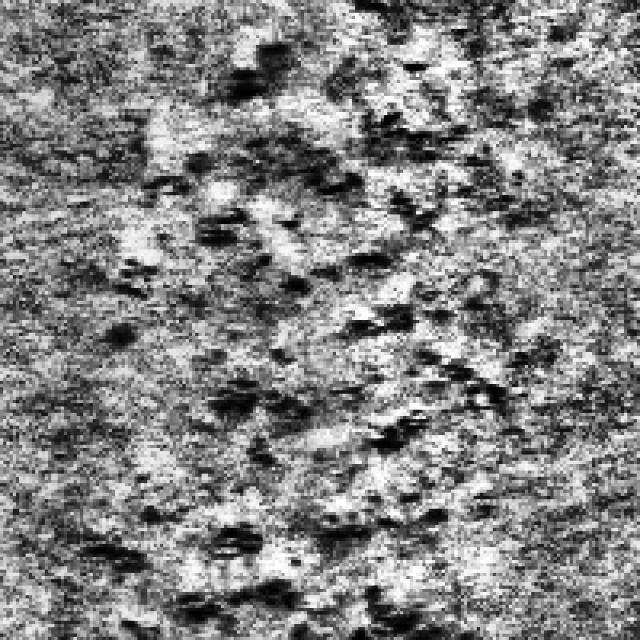Crazing: (141, 39, 480, 630), (185, 16, 516, 291)
